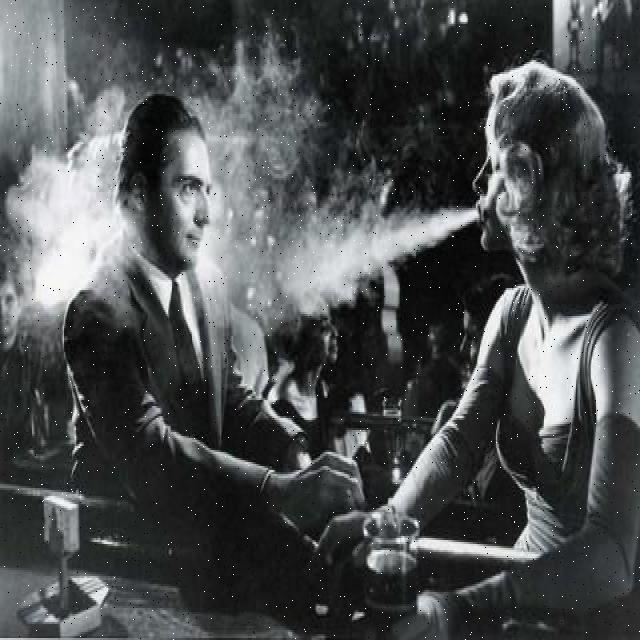smoke: (1, 74, 480, 322)
